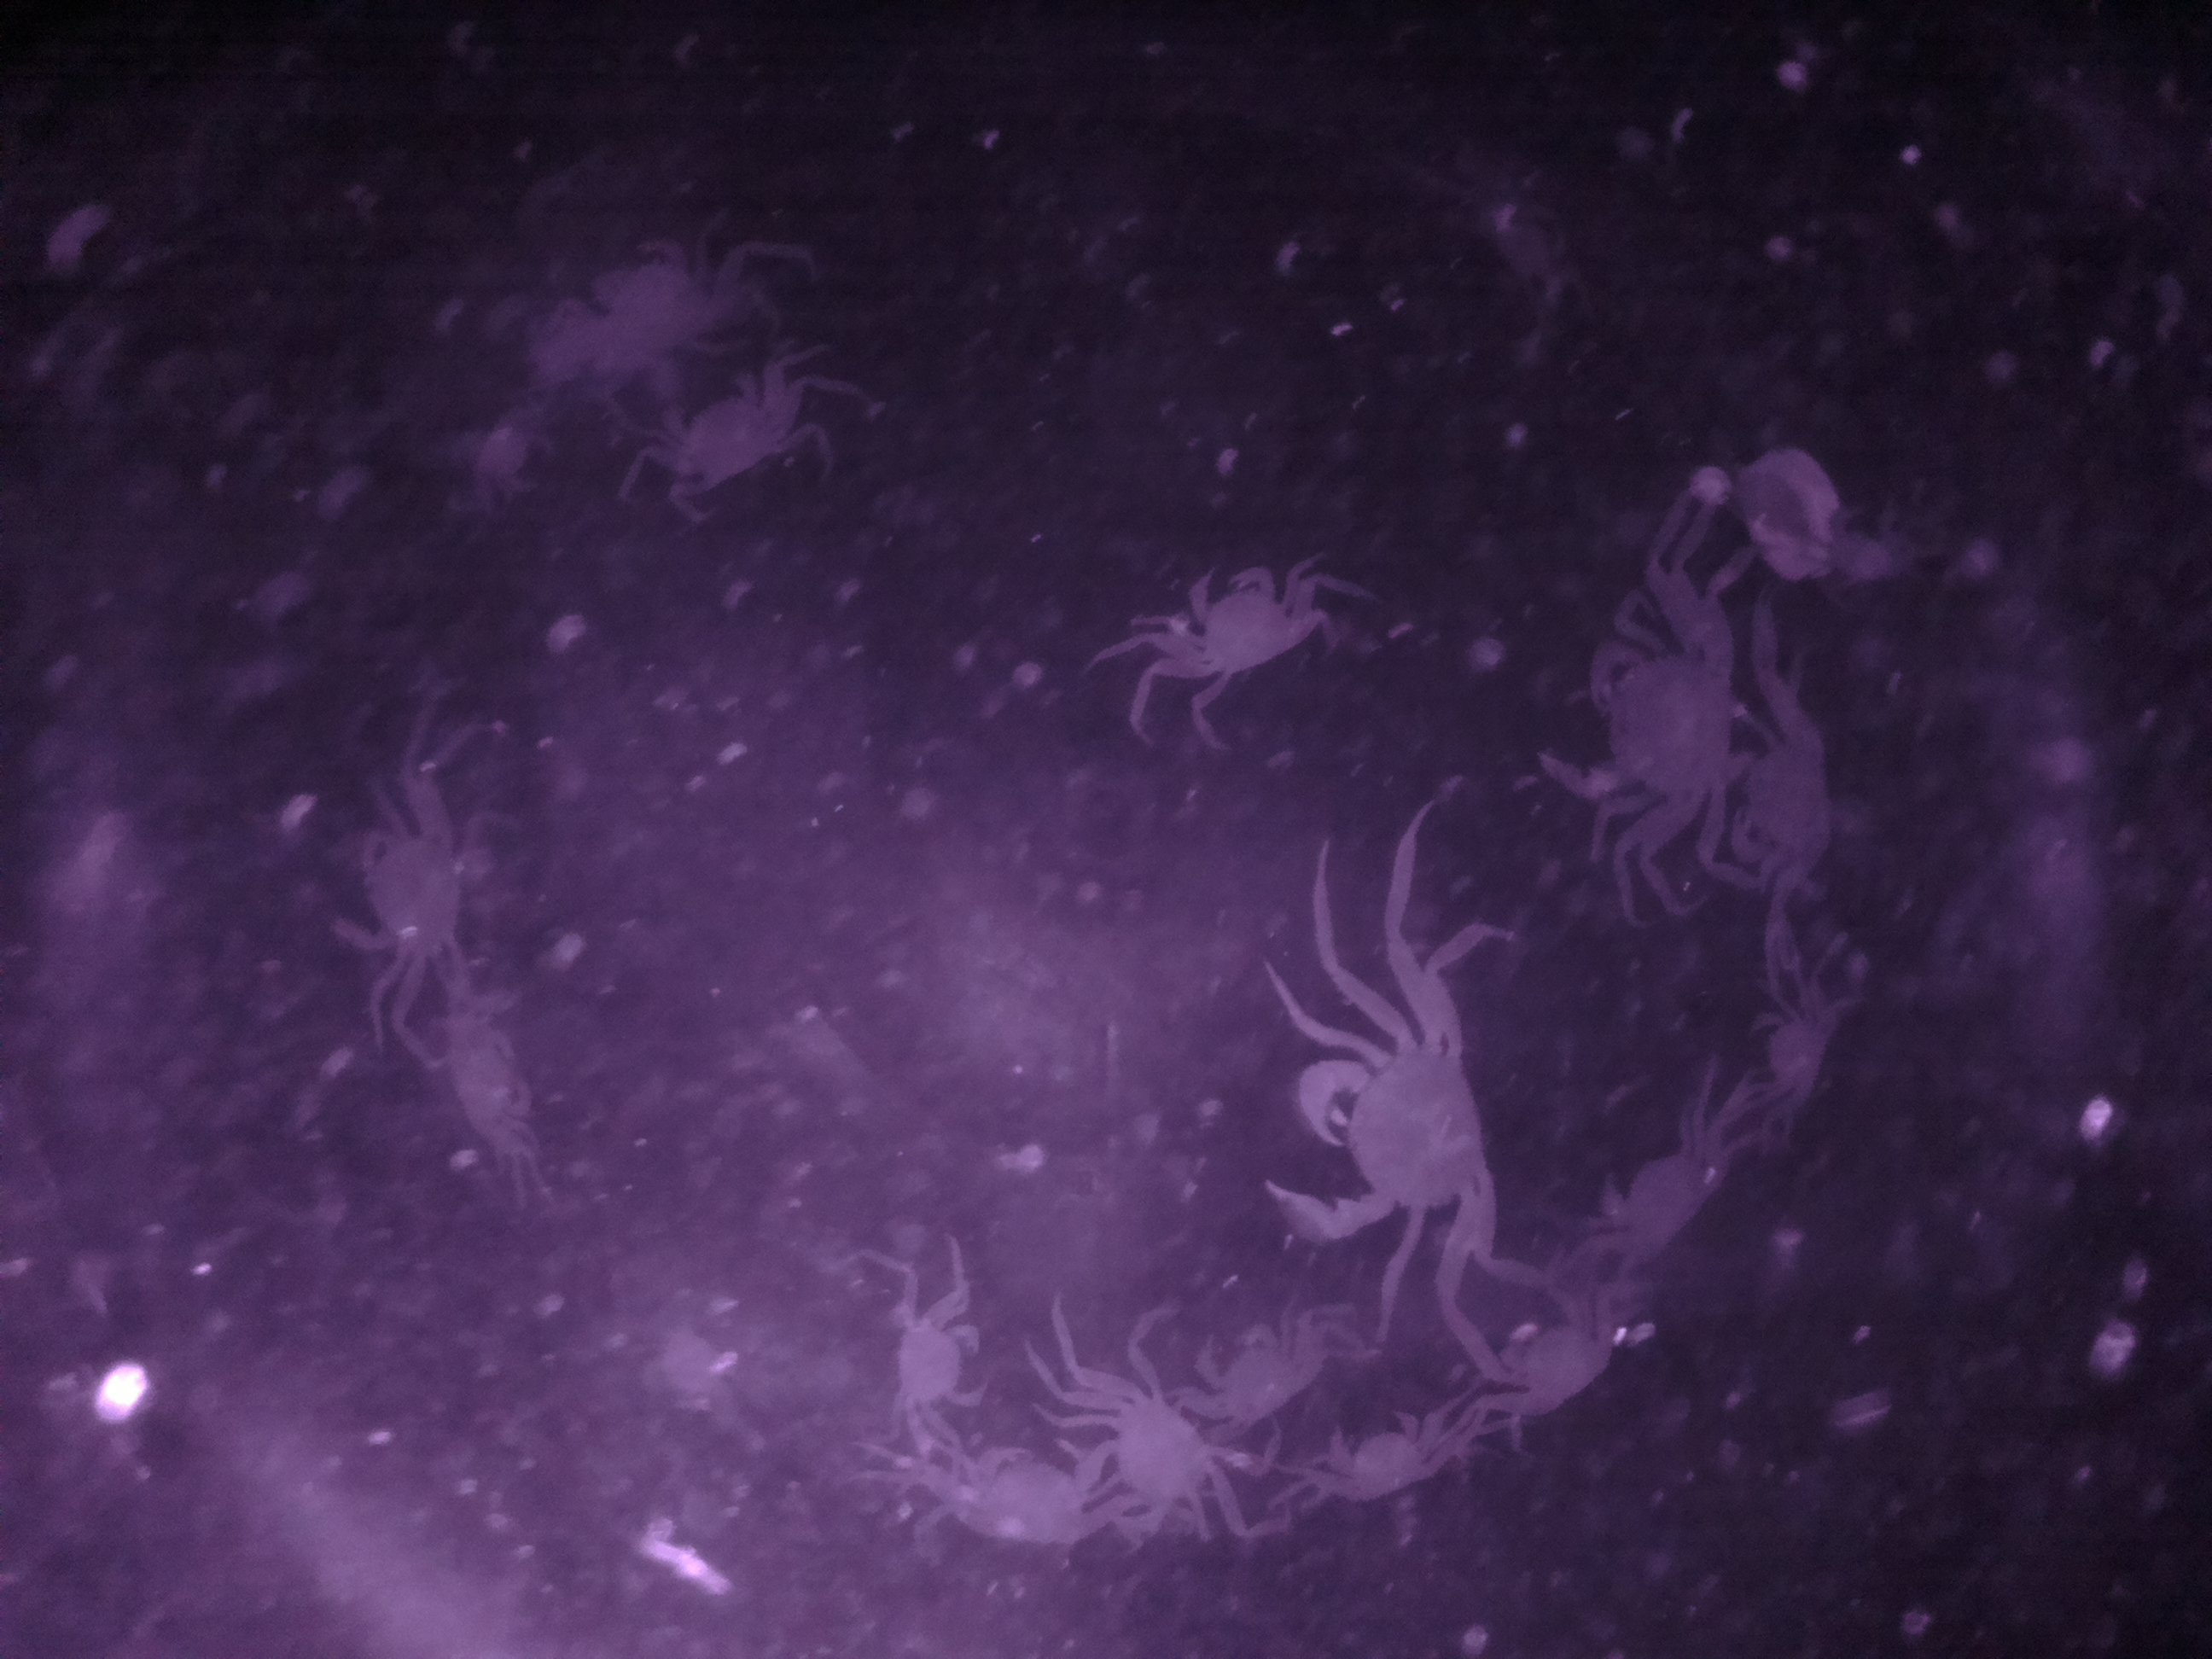Crab: (1258, 1004, 1501, 1286), (1540, 579, 1756, 836), (1069, 1375, 1233, 1553), (329, 800, 479, 979), (634, 368, 845, 490), (1153, 552, 1322, 697), (1581, 1112, 1719, 1276), (1494, 1276, 1613, 1438), (1318, 1403, 1446, 1521), (876, 1305, 988, 1424), (1745, 993, 1853, 1112)
